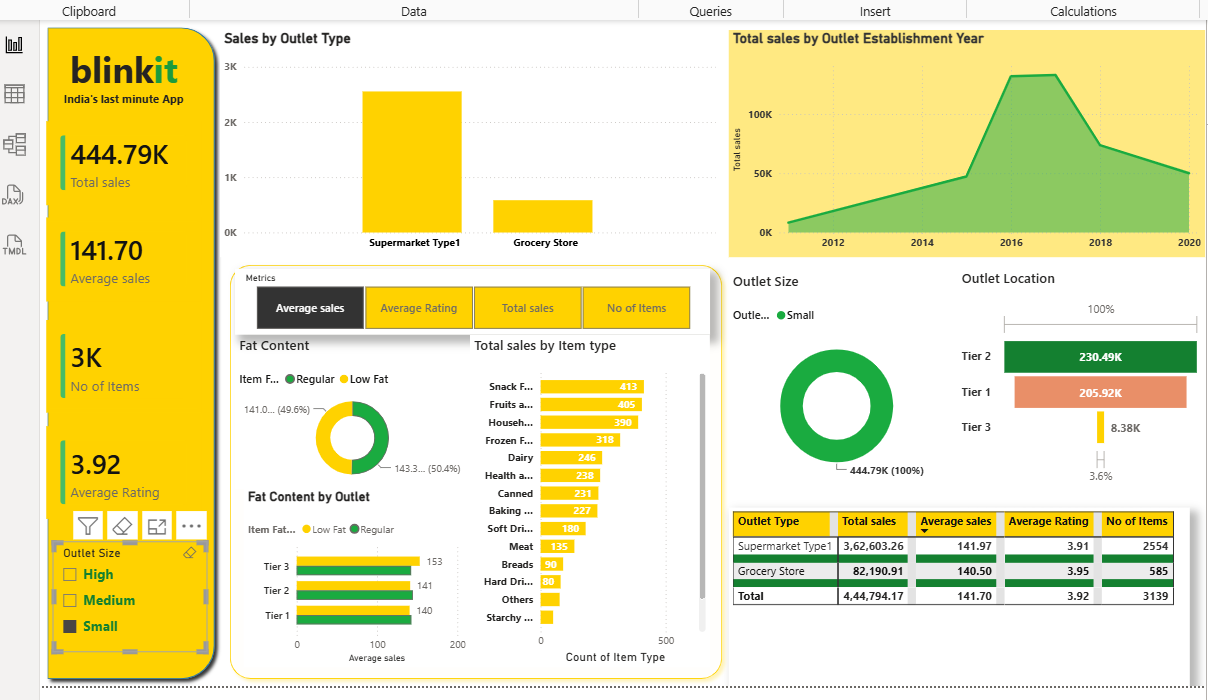

The page's visual inventory and layout, read from the dashboard file:
{"tool":"powerbi","page":{"name":"Page 2","canvas":[1400,800],"ordinal":0},"visuals":[{"type":"shape","box":[0,0,218.8,800.3],"z":0},{"type":"textbox","box":[0,24.5,201.1,137.2],"z":1000},{"type":"shape","box":[218.8,285.3,608.7,514.9],"z":3000},{"type":"donutChart","title":"Fat Content","fields":{"Category":["BlinkIT Grocery Data (2).Item Fat Content"],"Y":["BlinkIT Grocery Data (2).Average sales"]},"box":[234.1,378.2,282.2,184.6],"z":4000},{"type":"slicer","fields":{"Values":["Metrics.Metrics"]},"box":[233.7,298.9,570.7,78.8],"z":5000},{"type":"clusteredBarChart","title":"Fat Content by Outlet","fields":{"Category":["BlinkIT Grocery Data (2).Outlet Location Type"],"Series":["BlinkIT Grocery Data (2).Item Fat Content"],"Y":["BlinkIT Grocery Data (2).Average sales"]},"box":[244.6,562.5,271.7,214.7],"z":6000},{"type":"barChart","title":"Total sales by Item type","fields":{"Category":["BlinkIT Grocery Data (2).Item Type"],"Y":["CountNonNull(BlinkIT Grocery Data (2).Item Type)"]},"box":[516.3,378.2,288.2,399.2],"z":7000},{"type":"lineChart","fields":{"Category":["BlinkIT Grocery Data (2).Outlet Establishment Year"],"Y":["BlinkIT Grocery Data (2).Total sales"]},"box":[827,12,571.8,273.2],"z":8000},{"type":"donutChart","title":" Outlet Size","fields":{"Category":["BlinkIT Grocery Data (2).Outlet Size"],"Y":["BlinkIT Grocery Data (2).Total sales"]},"box":[827.5,301.6,259.5,260.9],"z":9000},{"type":"funnel","title":" Outlet Location ","fields":{"Category":["BlinkIT Grocery Data (2).Outlet Location Type"],"Y":["BlinkIT Grocery Data (2).Total sales"]},"box":[1101.9,298.9,297.6,263.6],"z":10000},{"type":"pivotTable","fields":{"Rows":["BlinkIT Grocery Data (2).Outlet Type"],"Values":["BlinkIT Grocery Data (2).Total sales","BlinkIT Grocery Data (2).Average sales","BlinkIT Grocery Data (2).Average Rating","BlinkIT Grocery Data (2).No of Items"]},"box":[827,585.3,553.8,214.6],"z":11000},{"type":"slicer","fields":{"Values":["BlinkIT Grocery Data (2).Outlet Size"]},"box":[15,625.9,186.1,133.6],"z":12000},{"type":"cardVisual","fields":{"Data":["BlinkIT Grocery Data (2).Total sales"]},"box":[7.5,121.6,186.1,100.6],"z":13000},{"type":"cardVisual","fields":{"Data":["BlinkIT Grocery Data (2).Average sales"]},"box":[7.5,237.1,186.1,100.6],"z":14000},{"type":"cardVisual","fields":{"Data":["BlinkIT Grocery Data (2).No of Items"]},"box":[7.5,360.2,186.1,111.1],"z":15000},{"type":"cardVisual","fields":{"Data":["BlinkIT Grocery Data (2).Average Rating"]},"box":[7.5,487.8,186.1,111.1],"z":16000},{"type":"columnChart","title":" Sales by Outlet Type","fields":{"Category":["BlinkIT Grocery Data (2).Outlet Type"],"Y":["CountNonNull(BlinkIT Grocery Data (2).Sales)"]},"box":[216.1,12,600.3,273.2],"z":17000}]}

Visuals, with their boxes on the page's 1400x800 design canvas (x1, y1, x2, y2). These are canvas units, not pixel positions in the 1208x700 screenshot, which may show the page scaled, cropped or inside an application window:
shape: pyautogui.locateOnScreen(0, 0, 219, 800)
textbox: pyautogui.locateOnScreen(0, 24, 201, 162)
shape: pyautogui.locateOnScreen(219, 285, 828, 800)
"Fat Content" donutChart: pyautogui.locateOnScreen(234, 378, 516, 563)
slicer - Metrics.Metrics: pyautogui.locateOnScreen(234, 299, 804, 378)
"Fat Content by Outlet" clusteredBarChart: pyautogui.locateOnScreen(245, 562, 516, 777)
"Total sales by Item type" barChart: pyautogui.locateOnScreen(516, 378, 804, 777)
lineChart - BlinkIT Grocery Data (2).Outlet Establishment Year x BlinkIT Grocery Data (2).Total sales: pyautogui.locateOnScreen(827, 12, 1399, 285)
" Outlet Size" donutChart: pyautogui.locateOnScreen(828, 302, 1087, 562)
" Outlet Location " funnel: pyautogui.locateOnScreen(1102, 299, 1400, 562)
pivotTable - BlinkIT Grocery Data (2).Outlet Type x BlinkIT Grocery Data (2).Total sales: pyautogui.locateOnScreen(827, 585, 1381, 800)
slicer - BlinkIT Grocery Data (2).Outlet Size: pyautogui.locateOnScreen(15, 626, 201, 760)
cardVisual - BlinkIT Grocery Data (2).Total sales: pyautogui.locateOnScreen(8, 122, 194, 222)
cardVisual - BlinkIT Grocery Data (2).Average sales: pyautogui.locateOnScreen(8, 237, 194, 338)
cardVisual - BlinkIT Grocery Data (2).No of Items: pyautogui.locateOnScreen(8, 360, 194, 471)
cardVisual - BlinkIT Grocery Data (2).Average Rating: pyautogui.locateOnScreen(8, 488, 194, 599)
" Sales by Outlet Type" columnChart: pyautogui.locateOnScreen(216, 12, 816, 285)
